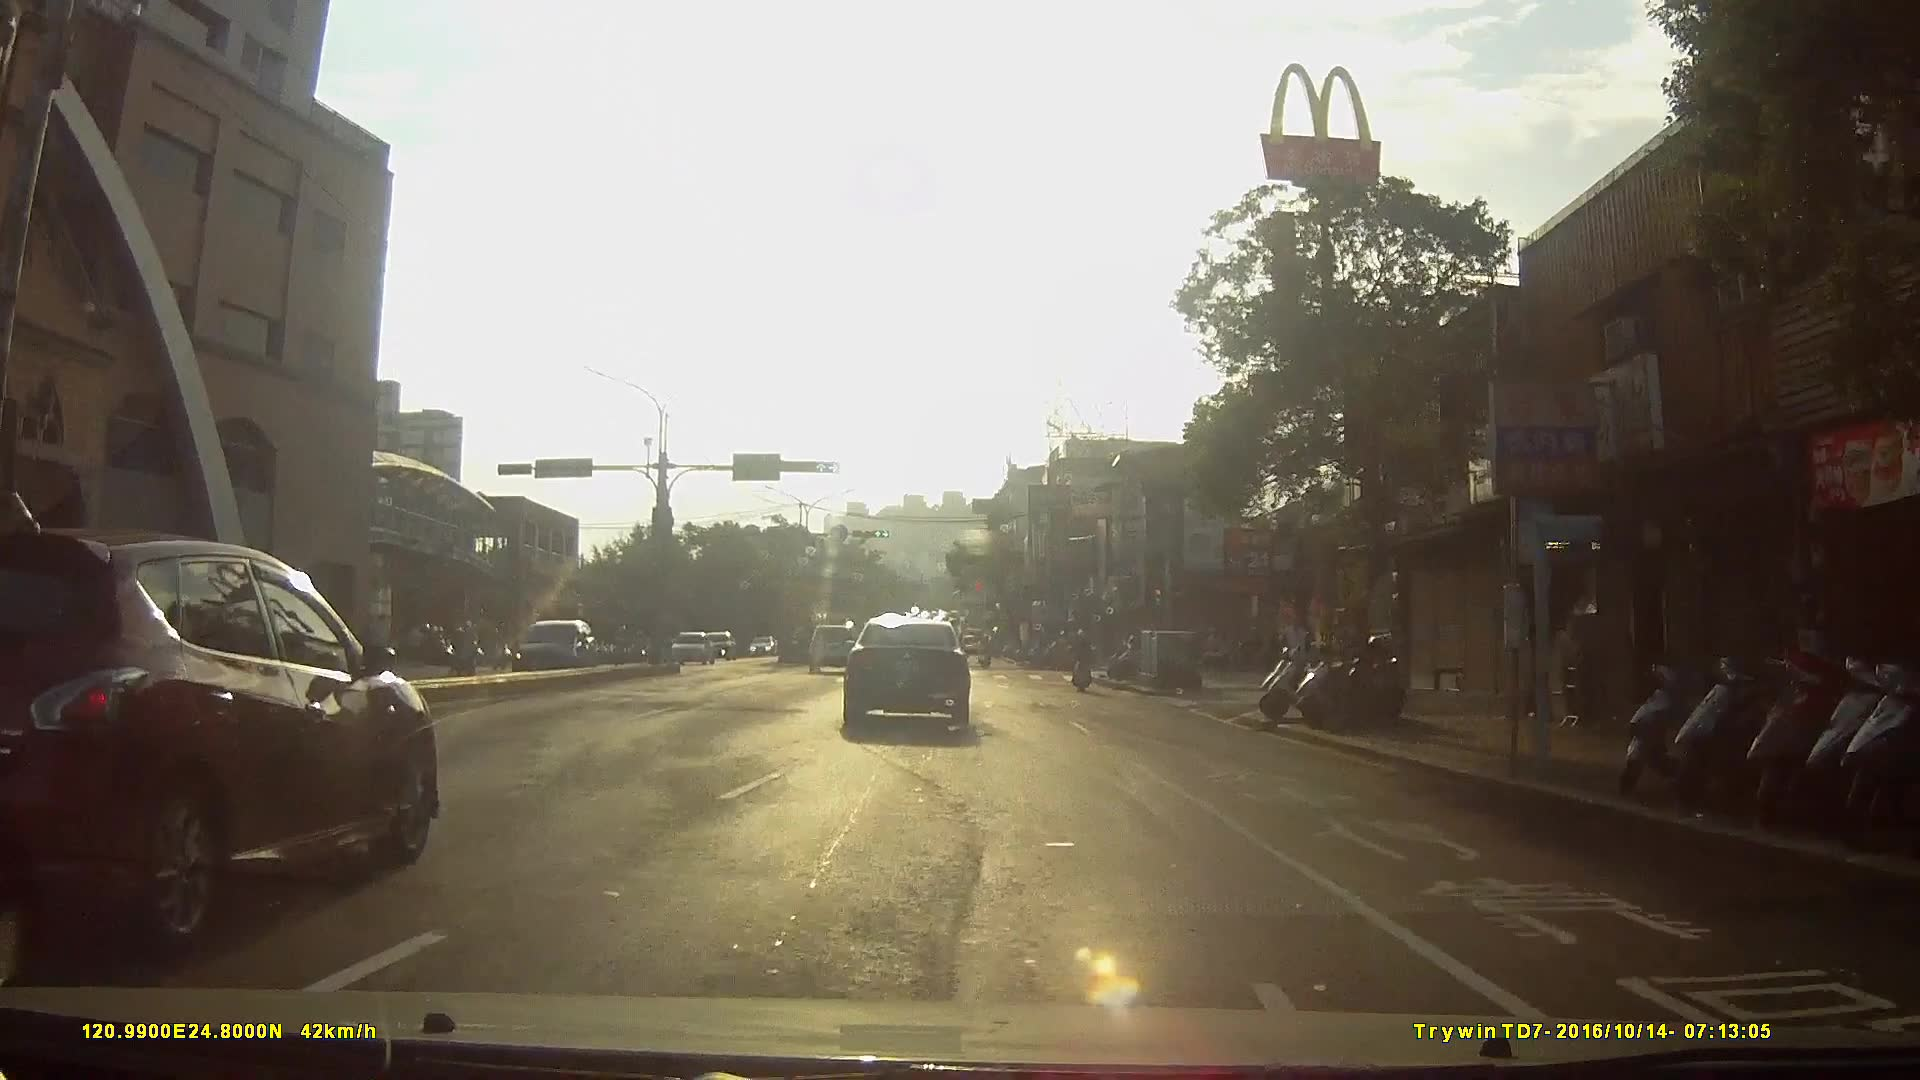rider: (1073, 624, 1098, 692), (1041, 631, 1078, 671), (976, 637, 997, 674)
vehicle: (1, 522, 454, 960), (841, 610, 988, 733), (498, 617, 601, 685), (805, 618, 862, 673), (667, 626, 715, 668), (699, 628, 742, 661)
